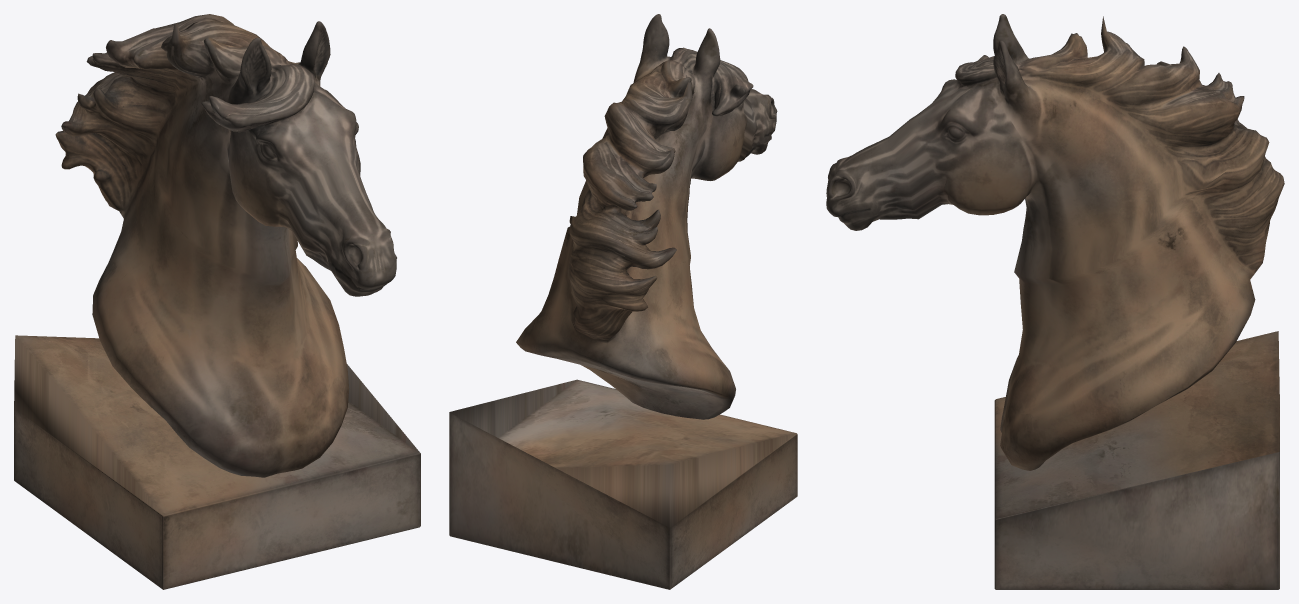
File: horse_head_4k.fbx
The picture shows the model from 3 angles, left to right: view 1: azimuth 30°, elevation 25°; view 2: azimuth 150°, elevation 25°; view 3: azimuth 270°, elevation 25°; orthographic projection. The views are drawn at different scales.
Visible parts, largest first — view 1: horse_head; view 2: horse_head; view 3: horse_head.
Boxes of the visible parts, x1=… form: horse_head: x1=14, y1=14, x2=420, y2=589; horse_head: x1=449, y1=14, x2=797, y2=589; horse_head: x1=826, y1=14, x2=1284, y2=589.
Bounding box in the file's own units: 21.49 × 41.87 × 34.54.
